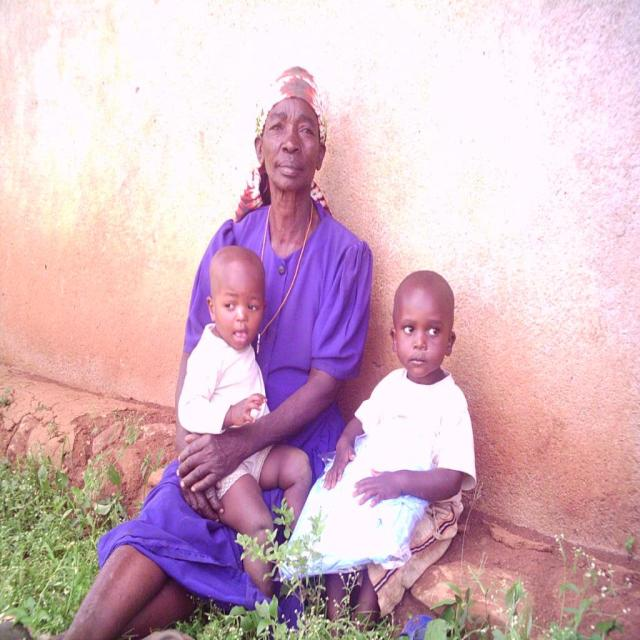Person: (49, 65, 372, 640)
